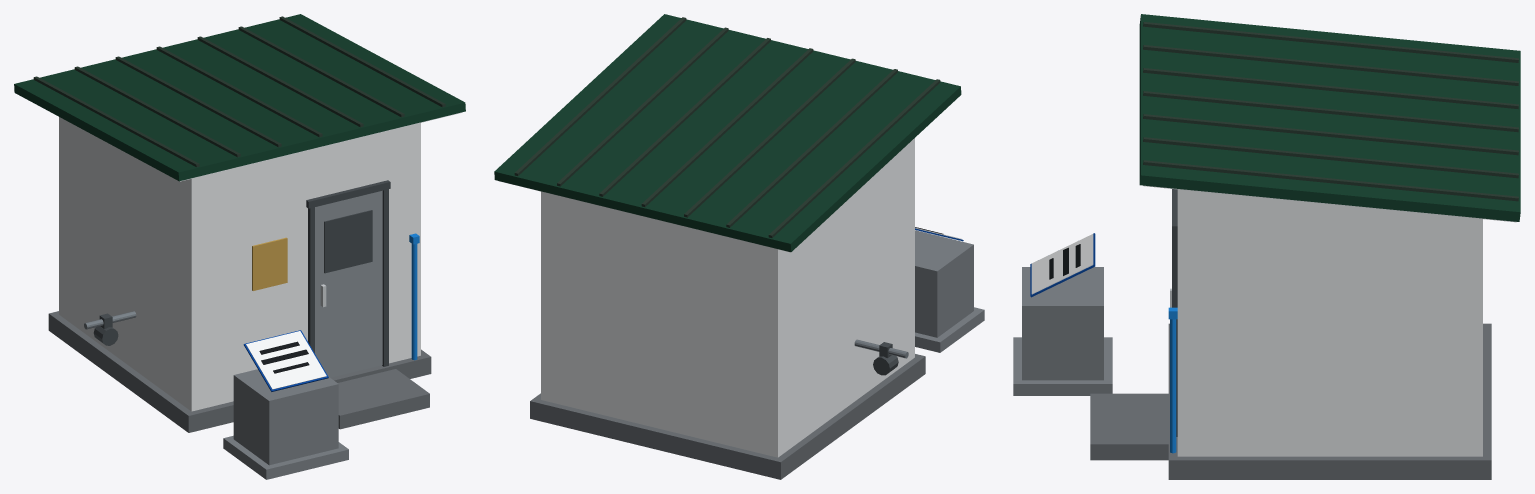
Rendered from plot22_comfort_room.glb.
The picture shows the model from 3 angles, left to right: view 1: azimuth 30°, elevation 25°; view 2: azimuth 150°, elevation 25°; view 3: azimuth 270°, elevation 25°; orthographic projection. The views are drawn at different scales.
Parts seen in each view (by area): view 1: CR_Combined_CR_WallWhite, CR_RoofPlate, CR_Combined_CR_PedestalConc, CR_Combined_CR_PlinthGrey, DoorLeaf, CR_Combined_CR_RoofMetal, CR_Combined_CR_DoorFrame, MarkerPlaqueFace, WallPlaqueBrass, CR_Combined_CR_PipeBlue, CR_Combined_CR_MarkerText; view 2: CR_Combined_CR_WallWhite, CR_RoofPlate, CR_Combined_CR_PlinthGrey, CR_Combined_CR_RoofMetal, CR_Combined_CR_PedestalConc, CR_Combined_CR_DoorFrame; view 3: CR_Combined_CR_WallWhite, CR_RoofPlate, CR_Combined_CR_PlinthGrey, CR_Combined_CR_RoofMetal, CR_Combined_CR_PedestalConc, MarkerPlaqueFace, CR_Combined_CR_PipeBlue, CR_Combined_CR_DoorFrame.
Part boxes in pixels (x1,y1,x2,y2): CR_Combined_CR_WallWhite: (59,117,420,411); CR_RoofPlate: (14,14,465,181); CR_Combined_CR_PedestalConc: (223,369,348,479); CR_Combined_CR_PlinthGrey: (48,311,431,432); DoorLeaf: (315,190,382,377); CR_Combined_CR_RoofMetal: (33,16,445,167); CR_Combined_CR_DoorFrame: (93,180,390,366); MarkerPlaqueFace: (246,331,326,389); WallPlaqueBrass: (252,237,287,290); CR_Combined_CR_PipeBlue: (409,233,419,360); CR_Combined_CR_MarkerText: (259,341,309,373); CR_Combined_CR_WallWhite: (541,138,914,457); CR_RoofPlate: (494,14,961,252); CR_Combined_CR_PlinthGrey: (530,354,925,479); CR_Combined_CR_RoofMetal: (514,17,940,237); CR_Combined_CR_PedestalConc: (915,230,984,352); CR_Combined_CR_DoorFrame: (873,342,898,375); CR_Combined_CR_WallWhite: (1177,189,1482,456); CR_RoofPlate: (1139,14,1520,221); CR_Combined_CR_PlinthGrey: (1090,323,1491,479); CR_Combined_CR_RoofMetal: (1143,22,1518,201); CR_Combined_CR_PedestalConc: (1013,267,1112,395); MarkerPlaqueFace: (1031,234,1093,294); CR_Combined_CR_PipeBlue: (1168,307,1177,453); CR_Combined_CR_DoorFrame: (1172,189,1177,436).
Bounding box in the file's own units: 3.75 × 3.23 × 4.65.
